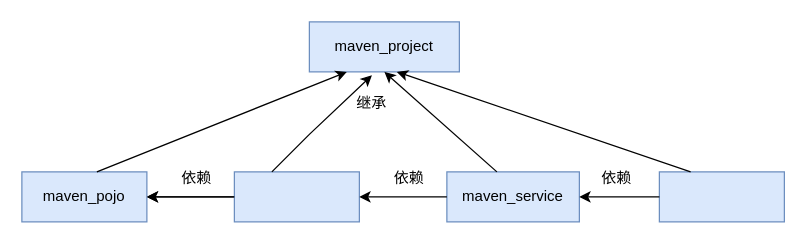
This 806x244 diagram has some shape labels left out. Each missing label, with the centre of its shape:
"maven_dao" belongs at point (296, 196).
"maven_web" belongs at point (721, 196).
